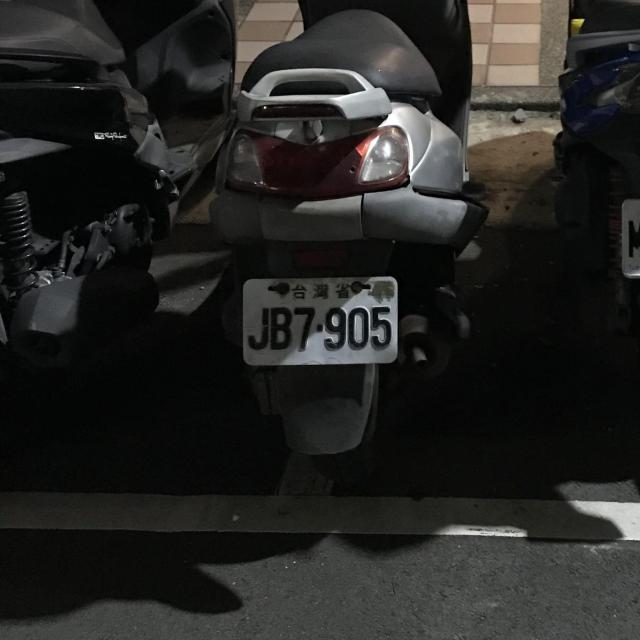W: (239, 270, 403, 371), (615, 188, 640, 287)
